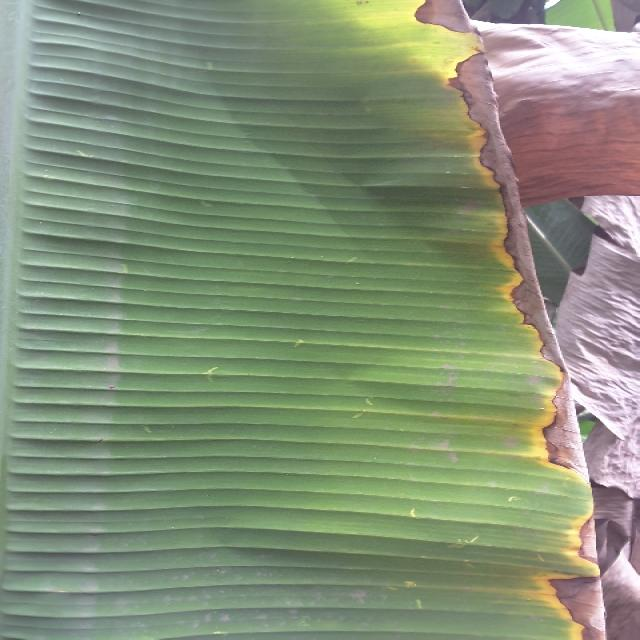Bract_mosaic_virus: (500, 19, 640, 204)
Cordana: (347, 0, 616, 640)
